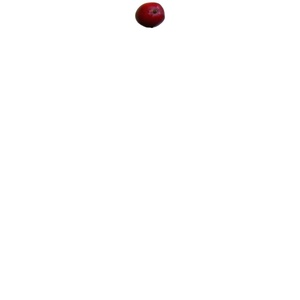manga: (135, 2, 165, 28)
